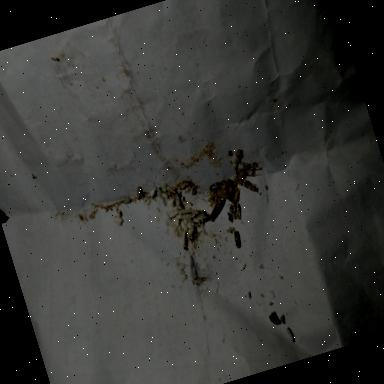pbw: (203, 198, 228, 222), (238, 162, 262, 180), (177, 228, 192, 253), (188, 270, 210, 286), (242, 176, 260, 194), (229, 185, 244, 204), (186, 222, 200, 241), (231, 146, 246, 163), (132, 184, 146, 201), (231, 230, 243, 249), (232, 201, 244, 220), (284, 326, 296, 344), (164, 183, 176, 195)
